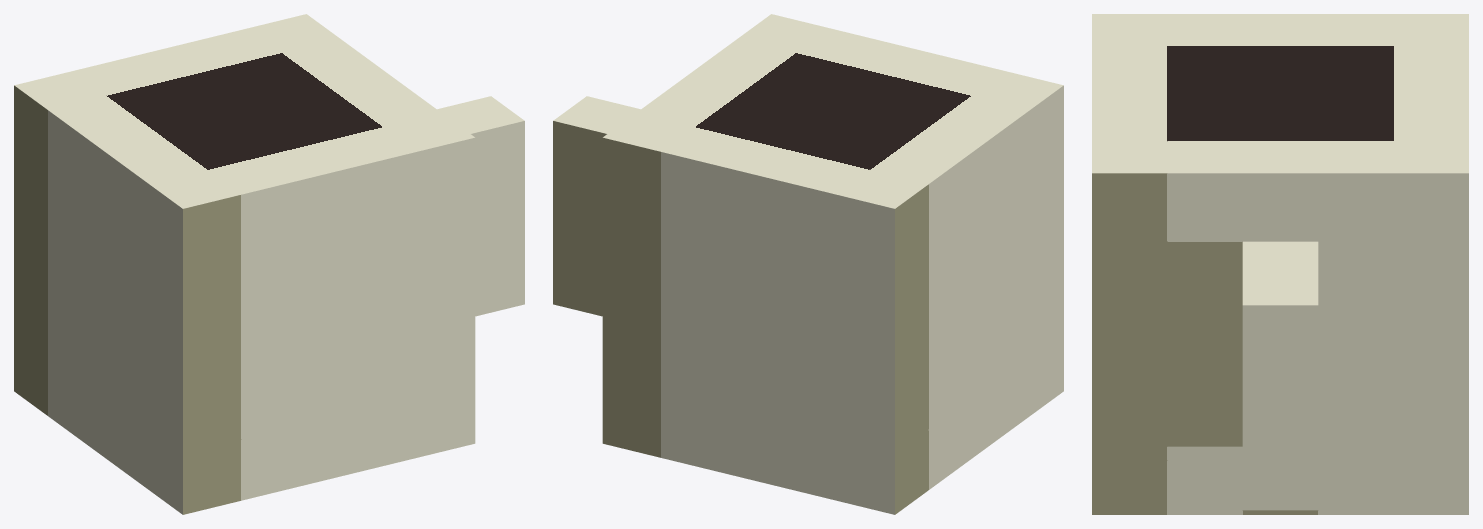
Rendered from int_mugao.fezao.glb.
3 views of the same model, side by side, from view 1: azimuth 30°, elevation 25°; view 2: azimuth 150°, elevation 25°; view 3: azimuth 270°, elevation 25° (orthographic). The views are drawn at different scales.
Visible parts, largest first — view 1: INT_MUGAO; view 2: INT_MUGAO; view 3: INT_MUGAO.
Part boxes in pixels (x1,y1,x2,y2): INT_MUGAO: (14, 14, 524, 514); INT_MUGAO: (553, 14, 1063, 514); INT_MUGAO: (1092, 14, 1468, 514).
Bounding box in the file's own units: 0.4375 × 0.3125 × 0.3125.
Materials: 1 (1 with a texture image).
